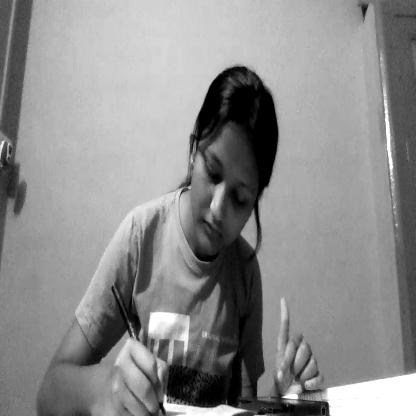Distracted: (188, 69, 282, 270)
